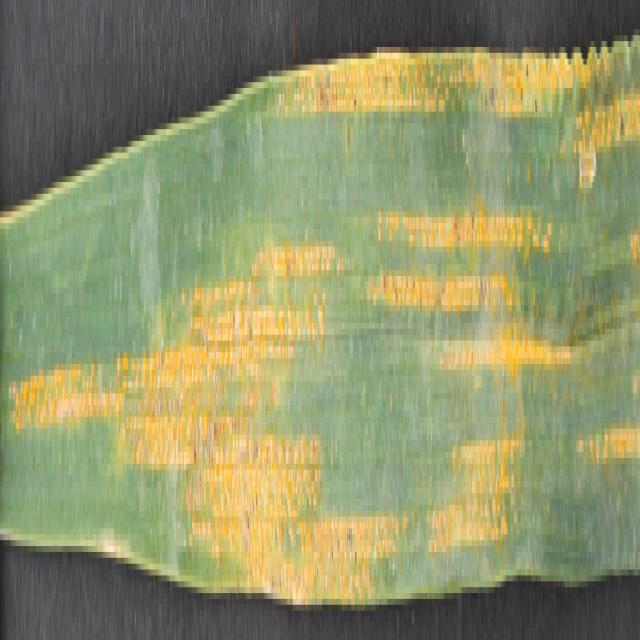leaf rust: (0, 194, 640, 558), (271, 6, 638, 182)
